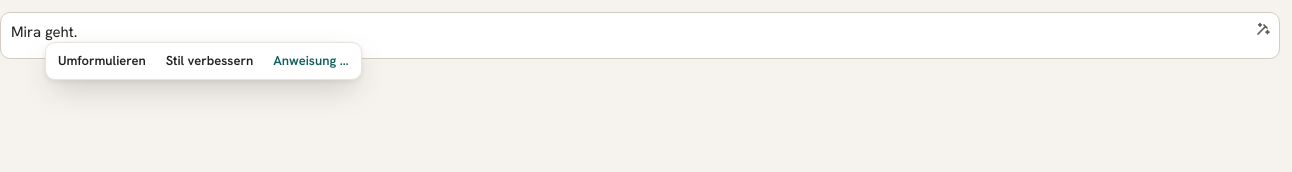
Test case: MagicWand on a ProseField › toolbar over selected text › takes a free instruction for the selection
Click the button "Anweisung …" at (311, 61), box [264,46,358,76]
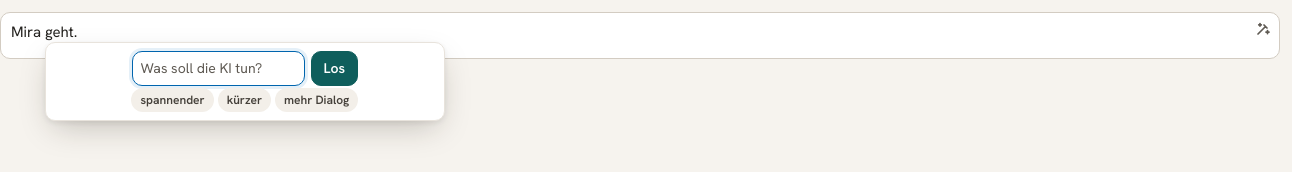
Type "aus Miras Sicht" into the field named "Anweisung an die KI" at (218, 68), box [132,51,305,86]
Then press Enter
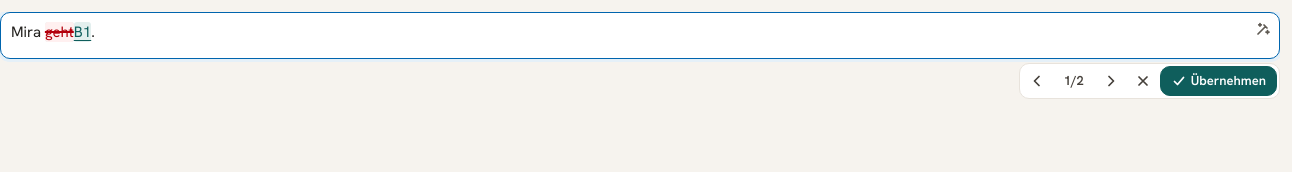
Expected: the text "1/2" is shown, [1064,72,1084,89]
